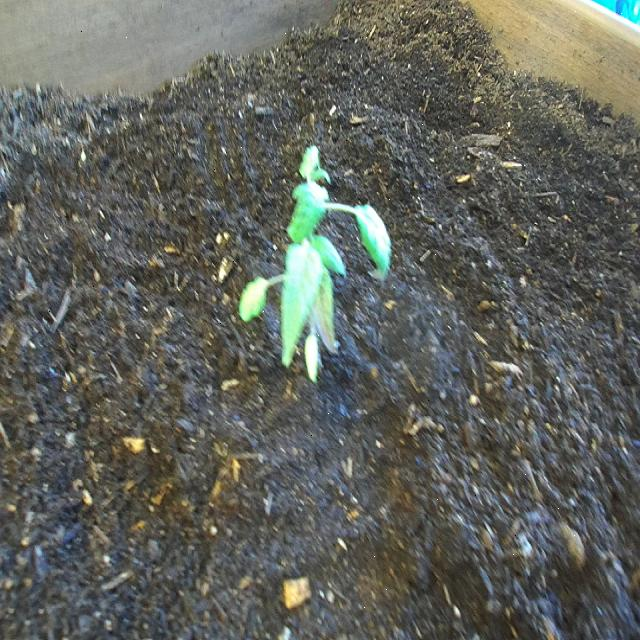Healthy: (232, 123, 398, 394)
